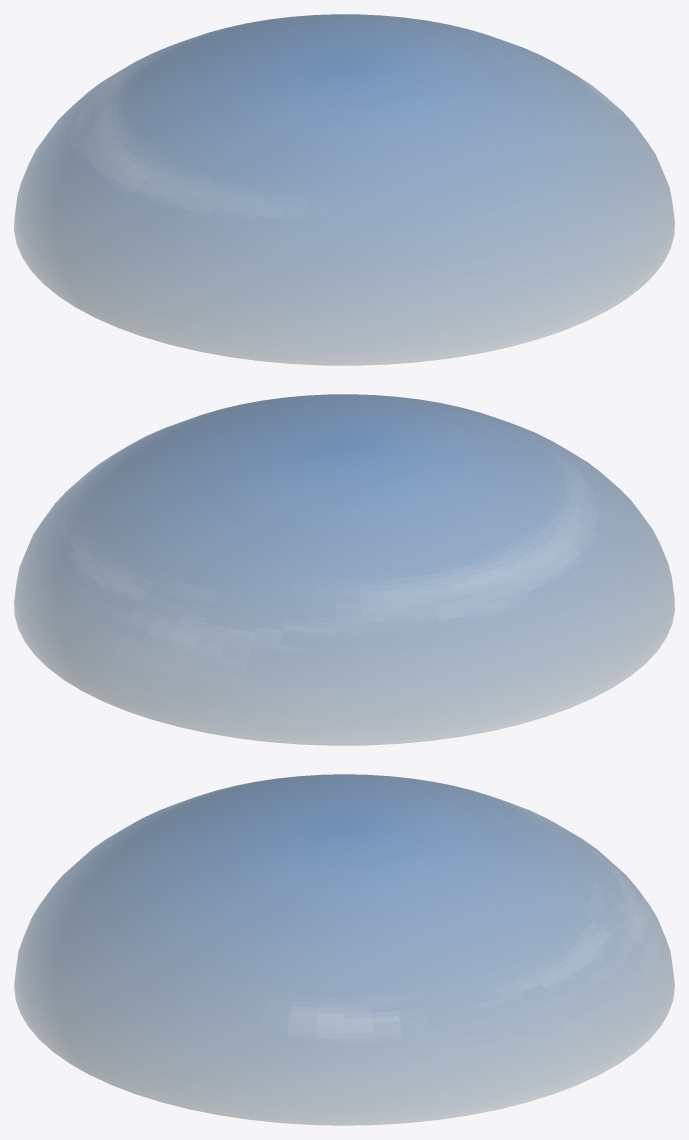
File: env-sky-robotics-dao.glb
3 renders of one model, top to bottom at view 1: azimuth 30°, elevation 25°; view 2: azimuth 150°, elevation 25°; view 3: azimuth 270°, elevation 25°, orthographic.
Parts seen in each view (by area): view 1: Sky; view 2: Sky; view 3: Sky.
Part boxes in pixels (bbox=[...]): Sky: bbox=[14, 14, 674, 365]; Sky: bbox=[14, 394, 674, 745]; Sky: bbox=[14, 774, 674, 1125].
Size of the model in its own units: 1200 by 320 by 1200.
2 materials, 1 textured.
